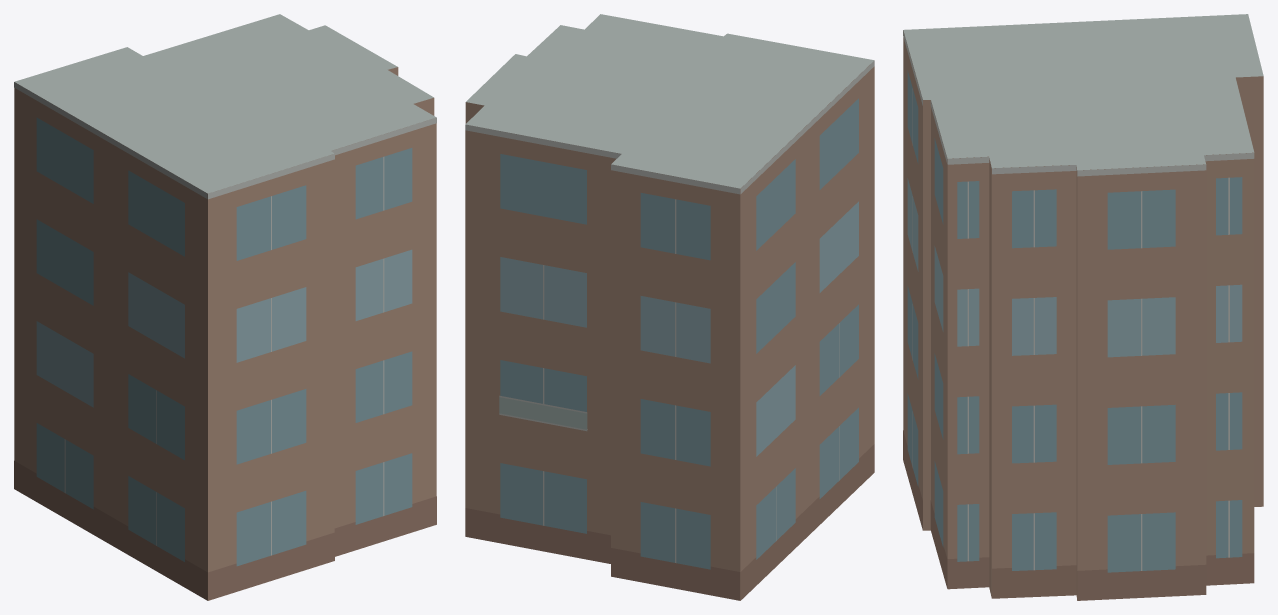
The model's file is survey-upis-32711337.glb.
3 views of the same model, side by side, from view 1: azimuth 30°, elevation 25°; view 2: azimuth 150°, elevation 25°; view 3: azimuth 270°, elevation 25° (orthographic). The views are drawn at different scales.
Visible parts, largest first — view 1: survey-upis-32711337.tmp; view 2: survey-upis-32711337.tmp; view 3: survey-upis-32711337.tmp.
Part boxes in pixels (box(x1,y1,x2,y2)): survey-upis-32711337.tmp: box(14, 14, 436, 600); survey-upis-32711337.tmp: box(465, 14, 874, 600); survey-upis-32711337.tmp: box(903, 14, 1263, 600).
Bounding box in the file's own units: 13.41 × 17.2 × 13.06.
